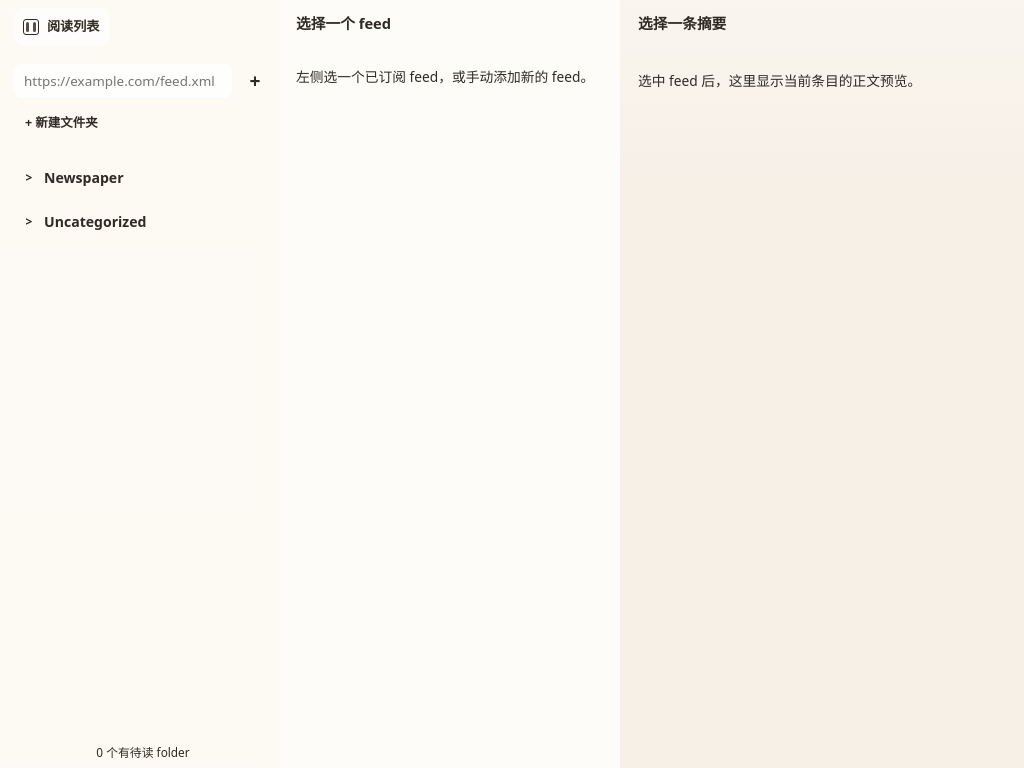
Test case: FeedDashboard › keeps every folder collapsed when entering the feed module
Expected: the text "新闻 Feed" is not shown
Click the button with aria-label "展开 Newspaper": {"x": 120, "y": 178} [14, 160, 226, 196]
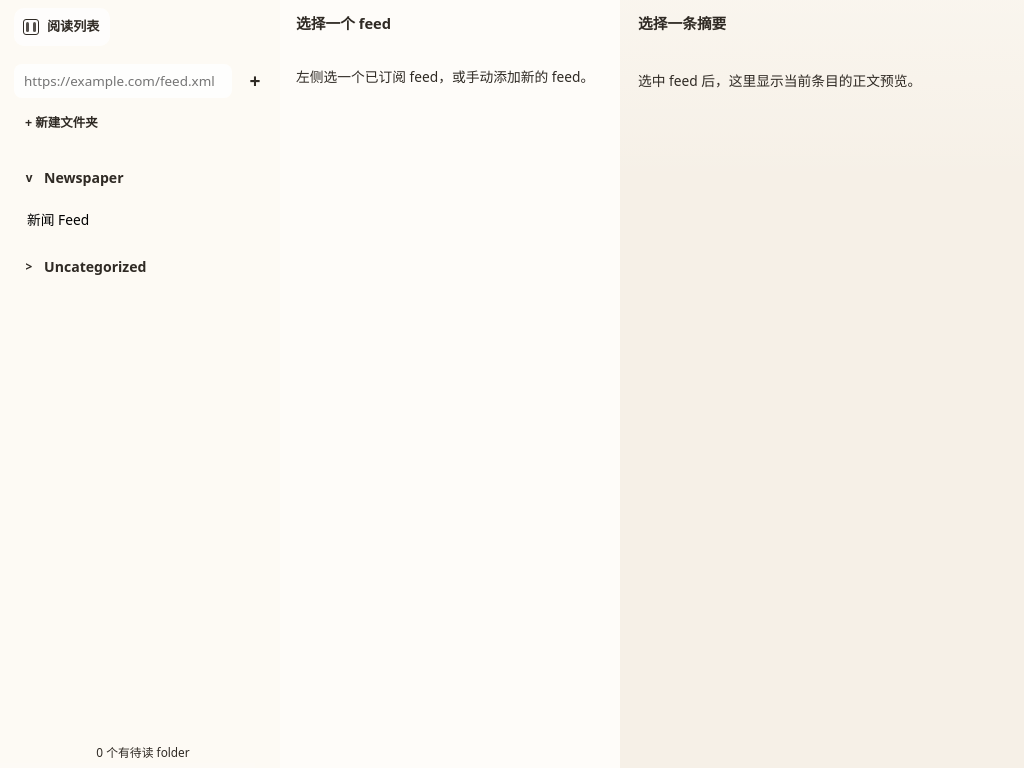
Expected: the button with aria-label "收起 Newspaper" is expanded, [14, 160, 226, 196]
Expected: the text "新闻 Feed" is shown, [27, 211, 89, 229]
